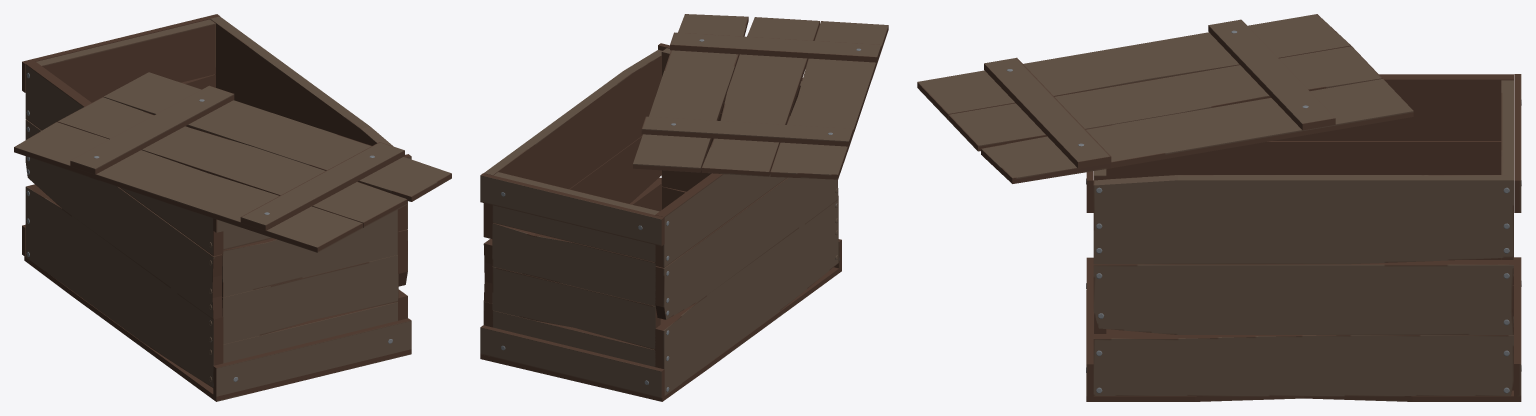
The model's file is Crate_LidOpen_Empty.fbx.
The picture shows the model from 3 angles, left to right: view 1: azimuth 30°, elevation 25°; view 2: azimuth 150°, elevation 25°; view 3: azimuth 270°, elevation 25°; orthographic projection. The views are drawn at different scales.
Parts seen in each view (by area): view 1: Lid.005, Side_03.008, Side_02.008, Side_04.008, Side_01.008, Crate.008; view 2: Lid.005, Side_04.008, Side_03.008, Side_01.008, Crate.008, Side_02.008; view 3: Side_01.008, Lid.005, Side_03.008, Side_04.008, Crate.008, Side_02.008.
Boxes of the visible parts, x1,y1,x2,y2 form: Lid.005: (14, 72, 451, 252); Side_03.008: (25, 61, 223, 387); Side_02.008: (213, 154, 411, 396); Side_04.008: (22, 14, 219, 256); Side_01.008: (210, 16, 407, 320); Crate.008: (24, 256, 411, 401); Lid.005: (633, 14, 888, 179); Side_04.008: (480, 172, 664, 398); Side_03.008: (655, 116, 838, 395); Side_01.008: (483, 49, 662, 327); Crate.008: (480, 267, 841, 401); Side_02.008: (658, 43, 841, 268); Side_01.008: (1093, 175, 1513, 396); Lid.005: (917, 14, 1413, 183); Side_03.008: (1106, 74, 1513, 259); Side_04.008: (1501, 74, 1521, 396); Crate.008: (1086, 290, 1521, 401); Side_02.008: (1086, 169, 1106, 396).
Size of the model in its own units: 111 by 73.52 by 172.
